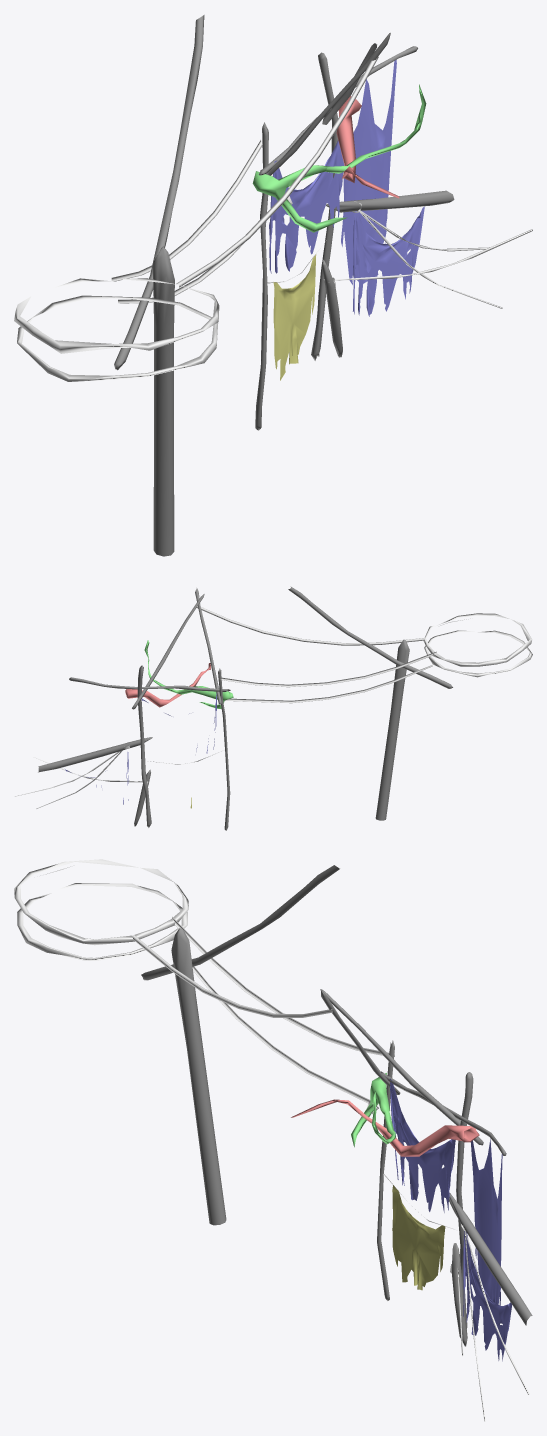
The model's file is cave_deco_A.gltf.
The picture shows the model from 3 angles, top to bottom: view 1: azimuth 30°, elevation 25°; view 2: azimuth 150°, elevation 25°; view 3: azimuth 270°, elevation 25°; orthographic projection. The views are drawn at different scales.
Parts seen in each view (by area): view 1: cave_deco_A; view 2: cave_deco_A; view 3: cave_deco_A.
Boxes of the visible parts, <box> form: cave_deco_A: <box>14,15,532,556</box>; cave_deco_A: <box>14,586,532,830</box>; cave_deco_A: <box>14,859,532,1421</box>.
Bounding box in the file's own units: 8.86 × 5.52 × 6.46.
